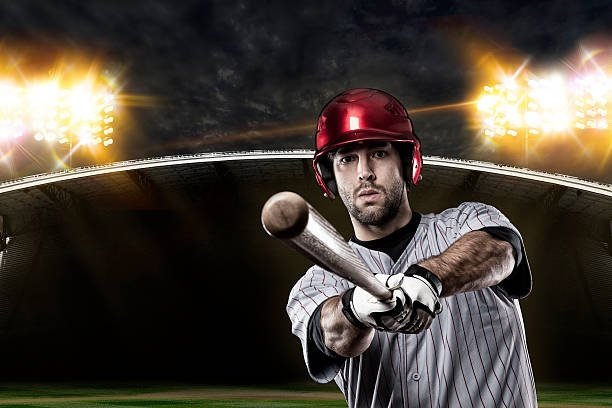bita: (260, 188, 396, 304)
